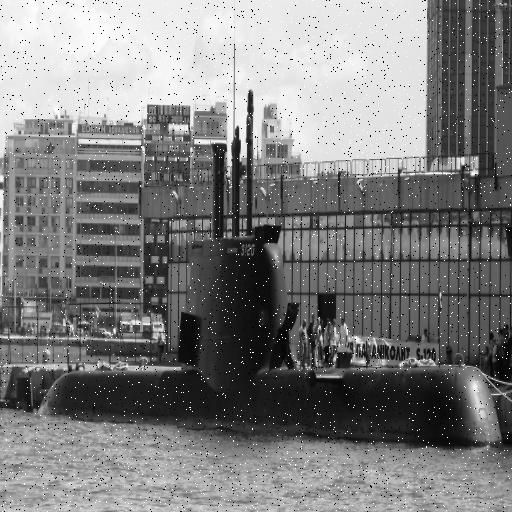submarine: (22, 87, 499, 457)
